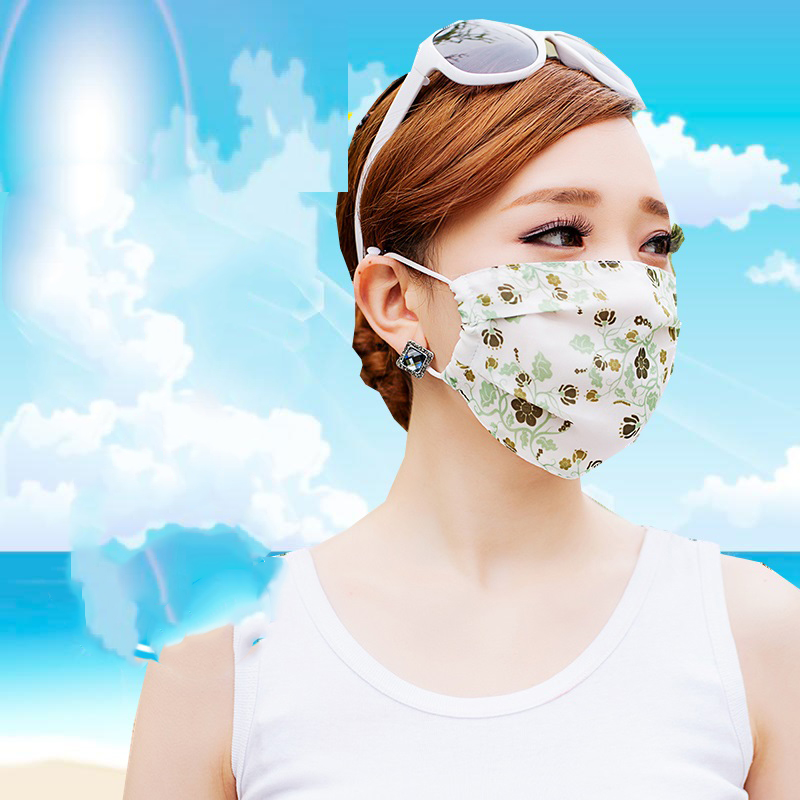face_mask: (423, 104, 681, 465)
